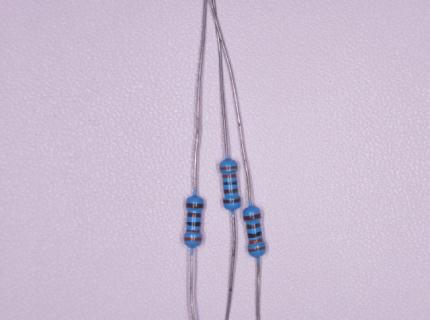Black band: (247, 231, 262, 238), (186, 221, 201, 227), (222, 181, 238, 185)
Brown band: (243, 213, 261, 220), (186, 202, 203, 209), (223, 198, 241, 204), (246, 222, 261, 229), (187, 212, 201, 217), (224, 189, 238, 194)
Orange band: (248, 246, 266, 252), (219, 165, 238, 170), (249, 238, 263, 244), (184, 237, 202, 241), (222, 174, 237, 178), (186, 229, 200, 233)
